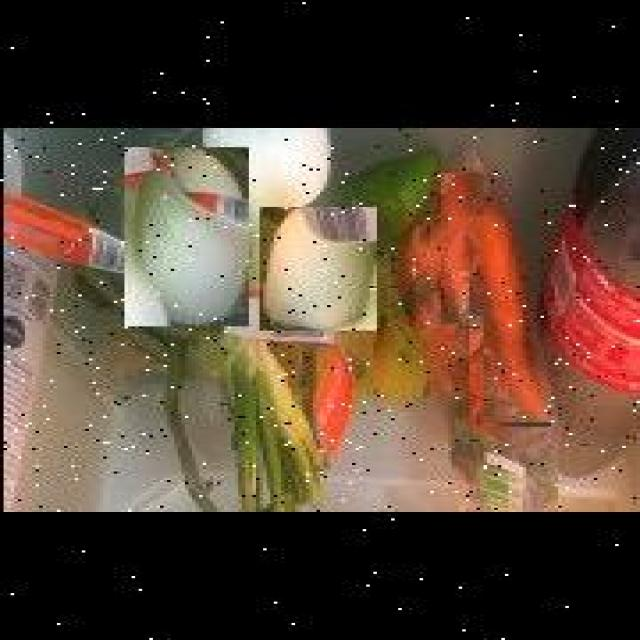carrot: (466, 216, 548, 424), (437, 171, 480, 322), (402, 215, 441, 288)
lemon: (370, 324, 420, 393)
onion: (121, 145, 245, 324), (256, 205, 373, 328), (199, 128, 327, 215)
